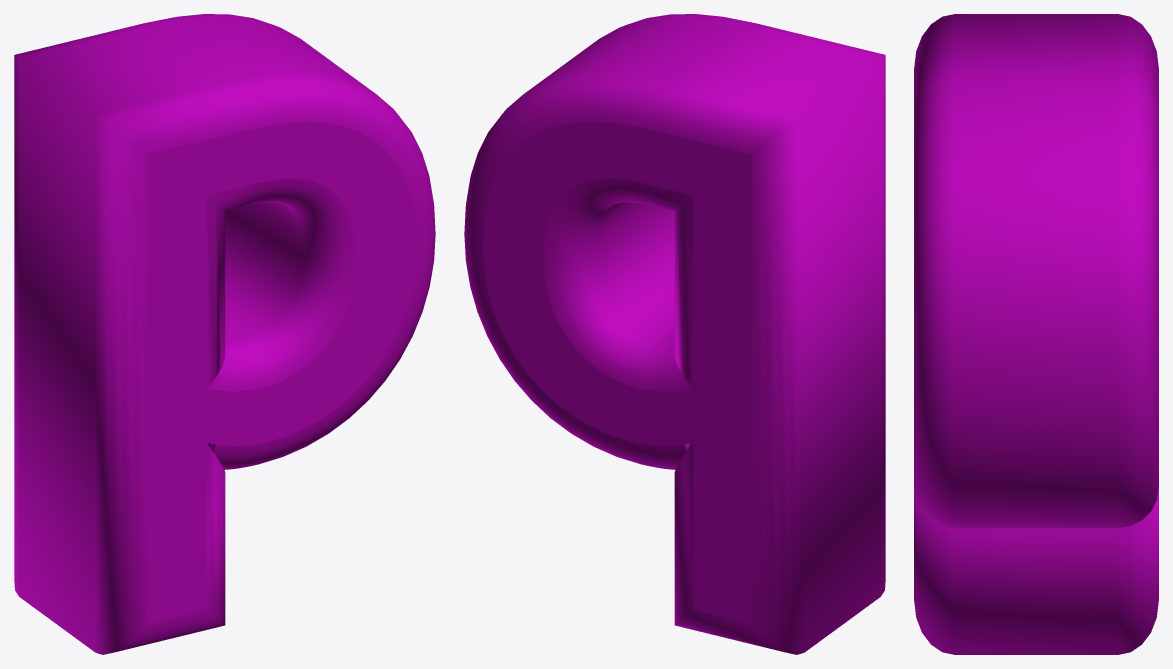
3 renders of one model, left to right at view 1: azimuth 30°, elevation 25°; view 2: azimuth 150°, elevation 25°; view 3: azimuth 270°, elevation 25°, orthographic. The views are drawn at different scales.
Visible parts, largest first — view 1: Text; view 2: Text; view 3: Text.
Boxes of the visible parts, bbox=[...] form: Text: bbox=[14, 14, 435, 654]; Text: bbox=[464, 14, 885, 654]; Text: bbox=[914, 14, 1158, 654].
Bounding box in the file's own units: 1.52 × 2.34 × 0.9.
